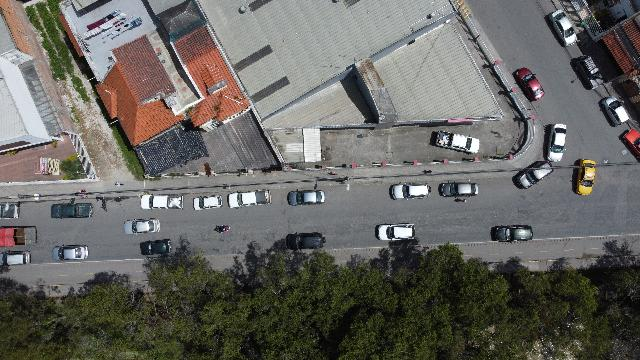Vehiculo: (570, 55, 604, 89), (513, 161, 553, 189), (434, 130, 480, 154), (513, 67, 545, 101), (549, 10, 577, 46), (599, 96, 629, 126), (51, 198, 93, 218), (544, 124, 566, 162), (227, 190, 271, 209), (491, 224, 533, 242), (576, 159, 596, 195), (286, 232, 326, 250), (375, 223, 415, 241), (390, 182, 430, 200), (141, 194, 183, 210), (438, 182, 478, 198), (287, 190, 325, 206), (52, 245, 88, 261), (124, 218, 160, 234), (140, 239, 172, 255), (0, 250, 30, 266), (623, 128, 639, 156), (194, 195, 222, 210), (1, 202, 20, 218)
